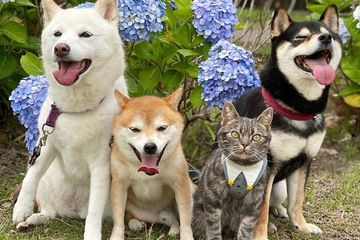anjing: (8, 0, 127, 238), (260, 4, 354, 238), (105, 84, 199, 238)
kucing: (201, 94, 275, 239)
